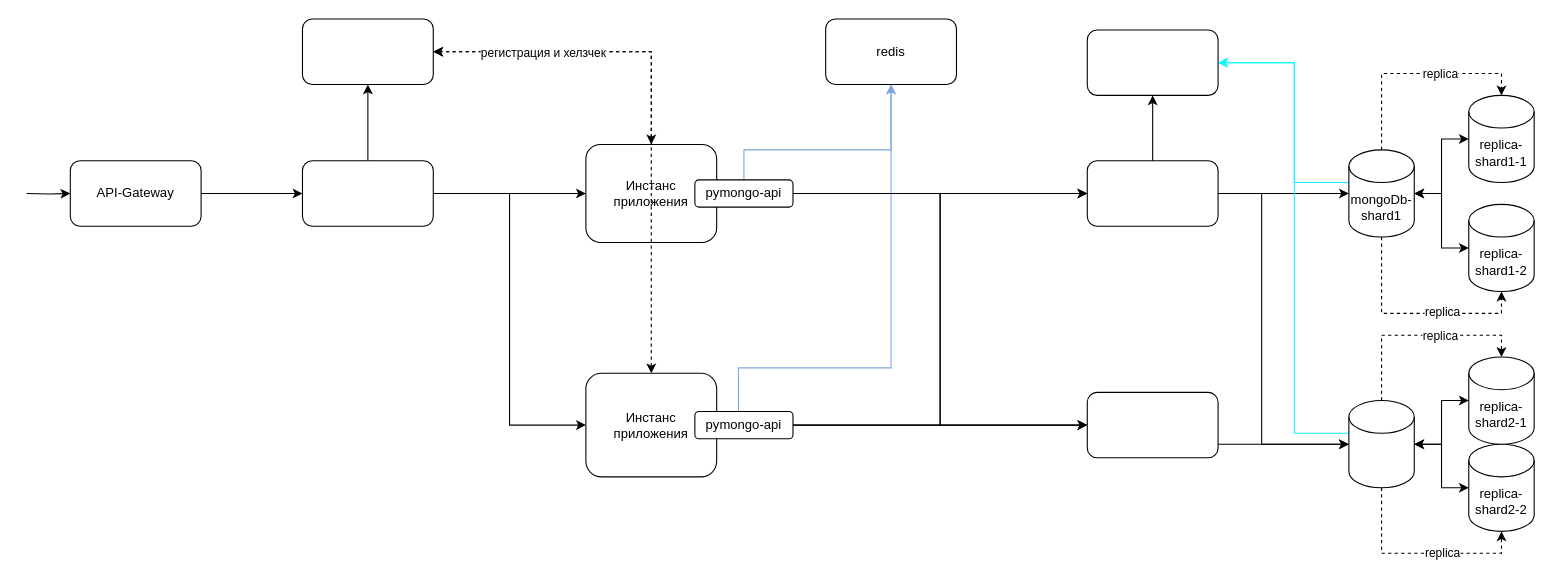
The diagram is 1553 pixels wide and 581 high, and some of its shapes have lost their labels. The box of each missing label's shape, as (x1, y1, x2, y2) in pixels:
configSrv: (1086, 29, 1218, 95)
mongo-router-1: (1086, 160, 1218, 226)
mongo-router-2: (1086, 391, 1218, 458)
mongoDb-shard2: (1348, 399, 1414, 488)
service-discovery: (301, 18, 433, 84)
Балансировщик: (301, 160, 433, 226)
